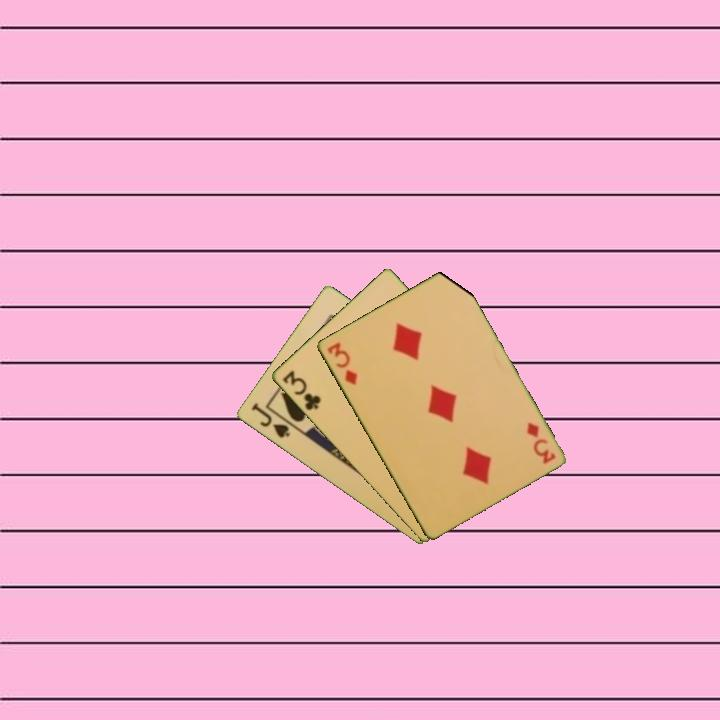3c: (278, 367, 324, 413)
3d: (323, 338, 360, 388), (523, 419, 558, 467)
Js: (247, 400, 293, 441)
